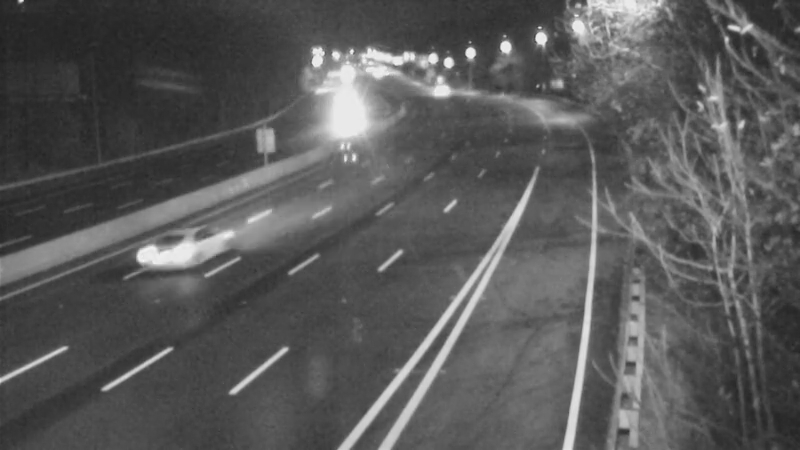vehicle: (140, 212, 220, 292), (410, 63, 460, 113), (317, 97, 367, 147)
